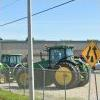tractors: (34, 42, 92, 88), (0, 49, 30, 86)
